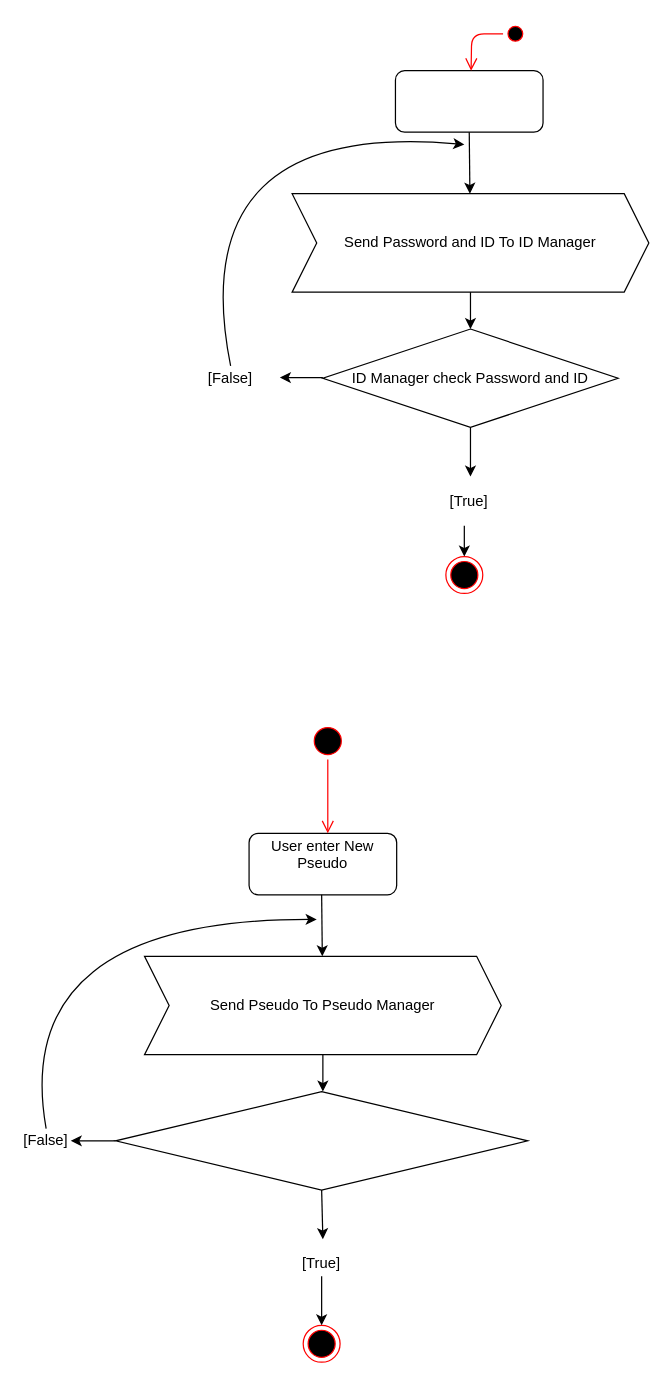
This 670x1384 diagram has some shape labels left out. Here are the shapes that lost their labels. From the top down, the centre of each, then its label:
(468,100): User enter Password and ID
(321,1140): Pseudo Manager check Pesudo avaibility
